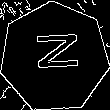N_W: (29, 36, 80, 79)
